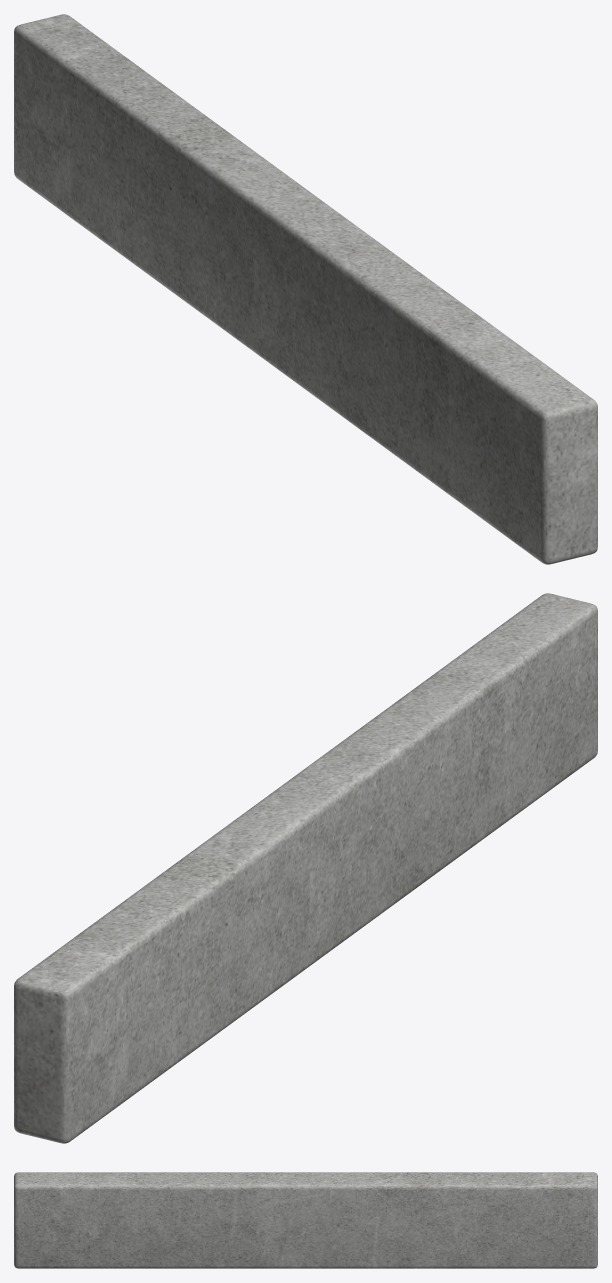
File: SM_SJM_SteppingStoneF_01.fbx
3 renders of one model, top to bottom at view 1: azimuth 30°, elevation 25°; view 2: azimuth 150°, elevation 25°; view 3: azimuth 270°, elevation 25°, orthographic. The views are drawn at different scales.
Parts seen in each view (by area): view 1: SM_SJM_SteppingStoneF_01; view 2: SM_SJM_SteppingStoneF_01; view 3: SM_SJM_SteppingStoneF_01.
Part boxes in pixels (x1,y1,x2,y2): SM_SJM_SteppingStoneF_01: [14, 14, 597, 564]; SM_SJM_SteppingStoneF_01: [14, 593, 597, 1143]; SM_SJM_SteppingStoneF_01: [14, 1172, 597, 1268].
Size of the model in its own units: 7.69 by 127 by 20.21.
1 material, 1 textured.
